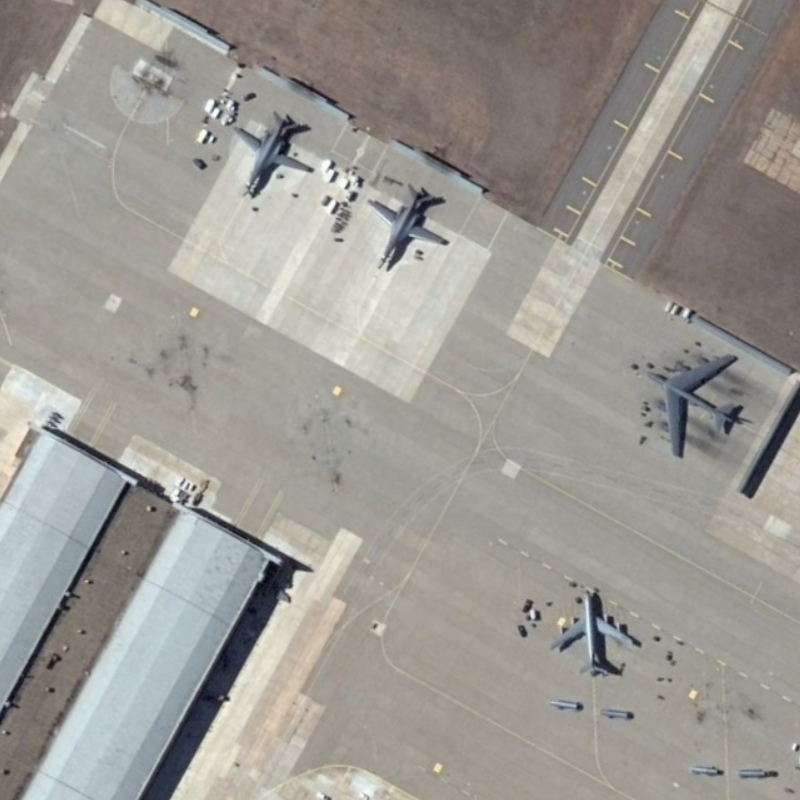A10: (360, 181, 455, 272), (232, 104, 320, 199)
A14: (552, 579, 643, 679)
A8: (638, 348, 758, 455)
